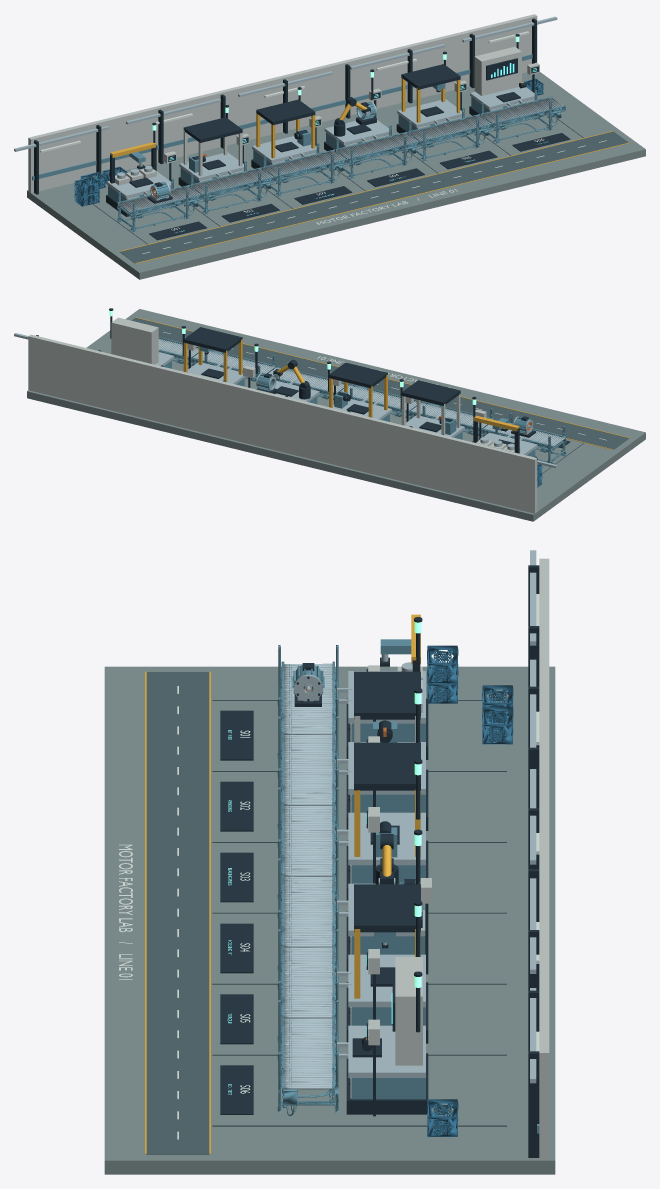
The picture shows the model from 3 angles, top to bottom: view 1: azimuth 30°, elevation 25°; view 2: azimuth 150°, elevation 25°; view 3: azimuth 270°, elevation 25°; orthographic projection. The views are drawn at different scales.
Parts seen in each view (by area): view 1: Concrete slab, Rear wall, Blue grey walking aisle, Test enclosure, NV_Conveyor_01 / sm_conveyor_belt_body_a08_mesh_00, NV_Conveyor_01 / sm_conveyor_belt_body_a08_mesh_00.003, NV_Conveyor_01 / sm_conveyor_belt_body_a08_mesh_00.005, NV_Conveyor_01 / sm_conveyor_belt_body_a08_mesh_00.002, NV_Conveyor_01 / sm_conveyor_belt_body_a08_mesh_00.001, NV_Conveyor_01 / sm_conveyor_belt_body_a08_mesh_00.004, Rear service stripe, Machine top crosshead.001 (+23 smaller); view 2: Rear wall, Concrete slab, Blue grey walking aisle, Test enclosure, Machine top crosshead, Machine top crosshead.001, Machine top crosshead.002, NV_Conveyor_01 / sm_conveyor_belt_body_a08_mesh_00, Work deck.004, NV_Conveyor_01 / sm_conveyor_belt_body_a08_mesh_00.004, NV_Conveyor_01 / sm_conveyor_belt_body_a08_mesh_00.001, Work deck.002 (+5 smaller); view 3: Concrete slab, Blue grey walking aisle, Rear wall, Machine top crosshead.001, Machine top crosshead, Machine top crosshead.002, Test enclosure, Work deck.002, Work deck.005, NV_Conveyor_01 / sm_conveyor_belt_body_a08_mesh_00.005, Work deck.004, Bay ID plate (+21 smaller).
Boxes of the visible parts, x1,y1,x2,y2 form: Concrete slab: [27, 72, 645, 279]; Rear wall: [28, 14, 537, 193]; Blue grey walking aisle: [120, 131, 628, 263]; Test enclosure: [474, 46, 521, 95]; NV_Conveyor_01 / sm_conveyor_belt_body_a08_mesh_00: [117, 178, 202, 232]; NV_Conveyor_01 / sm_conveyor_belt_body_a08_mesh_00.003: [335, 125, 420, 179]; NV_Conveyor_01 / sm_conveyor_belt_body_a08_mesh_00.005: [480, 90, 565, 143]; NV_Conveyor_01 / sm_conveyor_belt_body_a08_mesh_00.002: [262, 143, 347, 196]; NV_Conveyor_01 / sm_conveyor_belt_body_a08_mesh_00.001: [190, 161, 275, 214]; NV_Conveyor_01 / sm_conveyor_belt_body_a08_mesh_00.004: [408, 108, 492, 161]; Rear service stripe: [32, 54, 532, 180]; Machine top crosshead.001: [256, 99, 315, 125]; Rear wall: [28, 334, 537, 513]; Concrete slab: [27, 309, 645, 521]; Blue grey walking aisle: [132, 318, 628, 449]; Test enclosure: [111, 317, 158, 364]; Machine top crosshead: [401, 380, 460, 405]; Machine top crosshead.001: [329, 362, 387, 388]; Machine top crosshead.002: [183, 327, 242, 352]; NV_Conveyor_01 / sm_conveyor_belt_body_a08_mesh_00: [481, 413, 566, 463]; Work deck.004: [187, 362, 245, 384]; NV_Conveyor_01 / sm_conveyor_belt_body_a08_mesh_00.004: [191, 350, 275, 387]; NV_Conveyor_01 / sm_conveyor_belt_body_a08_mesh_00.001: [408, 401, 493, 436]; Work deck.002: [333, 399, 392, 419]; Concrete slab: [104, 666, 555, 1174]; Blue grey walking aisle: [146, 672, 209, 1154]; Rear wall: [539, 558, 549, 1160]; Machine top crosshead.001: [354, 742, 420, 790]; Machine top crosshead: [354, 671, 420, 719]; Machine top crosshead.002: [354, 884, 420, 932]; Test enclosure: [395, 957, 422, 1065]; Work deck.002: [348, 812, 425, 865]; Work deck.005: [348, 1025, 425, 1077]; NV_Conveyor_01 / sm_conveyor_belt_body_a08_mesh_00.005: [277, 999, 338, 1116]; Work deck.004: [348, 954, 425, 1007]; Bay ID plate: [220, 710, 253, 760].
Size of the model in its own units: 26.1 by 3.52 by 9.4.
